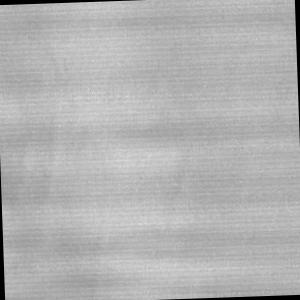Wrinkle: (1, 1, 300, 296)
